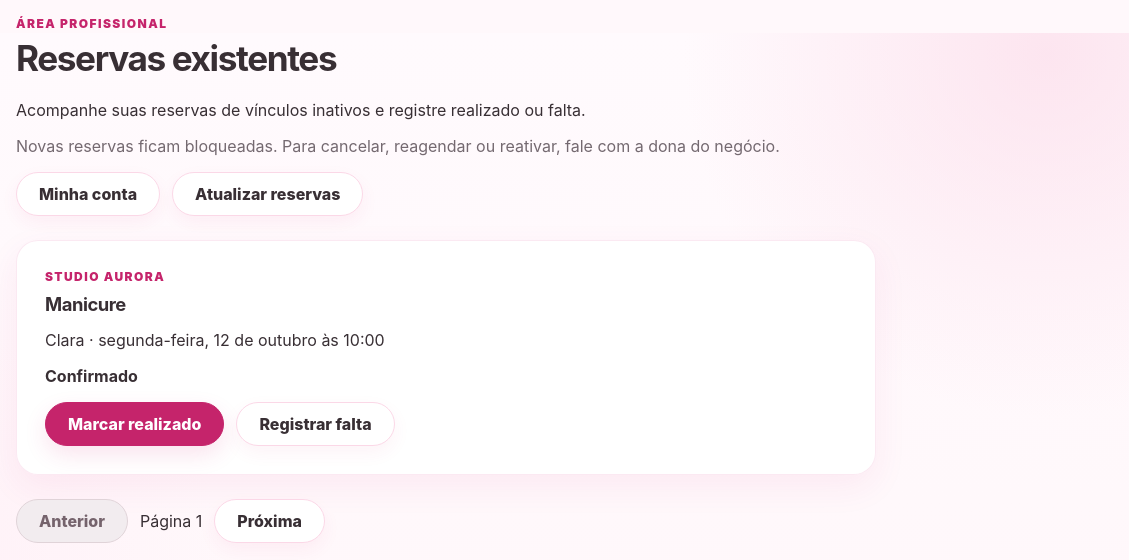
Test: RN50: reservas existentes › pagina e não oferece ação antes do momento permitido
Expected: the text "Clara" is shown, [45,330,85,350]
Click the button "Próxima" at (270, 522), box [214,500,325,544]
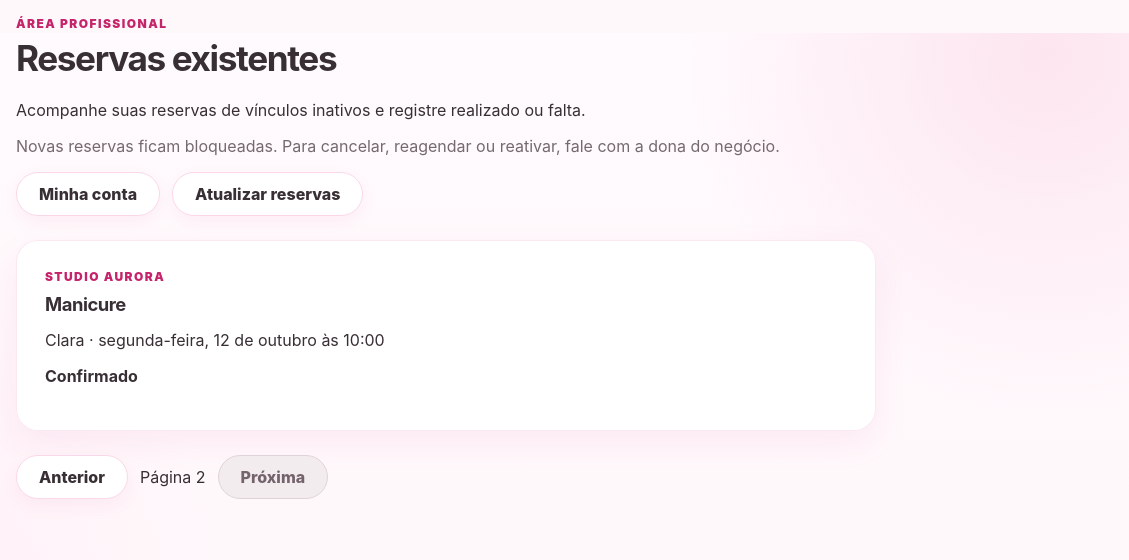
Expected: the text "Página 2" is shown, [140,468,206,488]
Expected: the button "Marcar realizado" is gone
